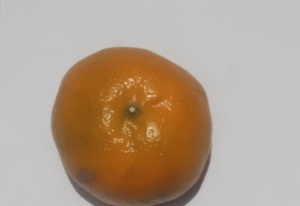BAD: (49, 44, 217, 206)
